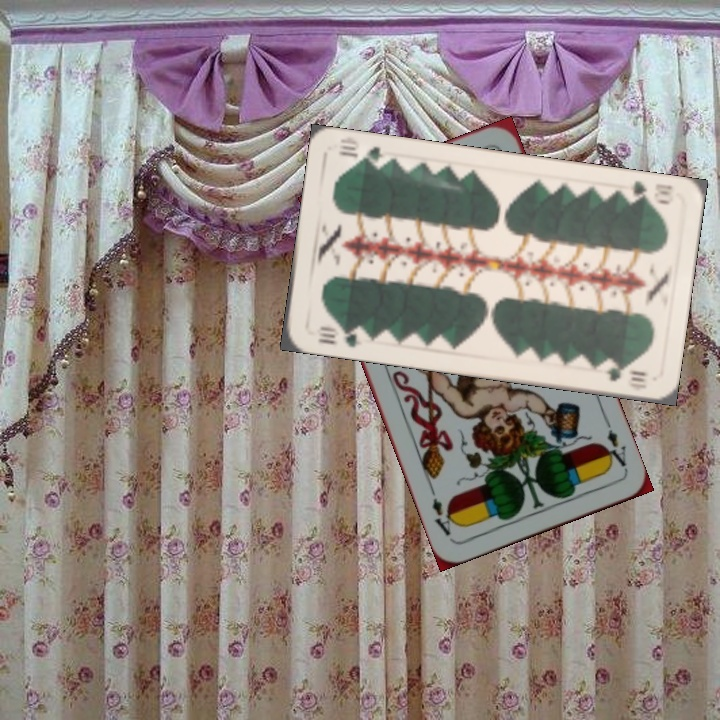EA: (598, 416, 630, 473)
G10: (619, 176, 676, 207), (314, 322, 367, 350)
